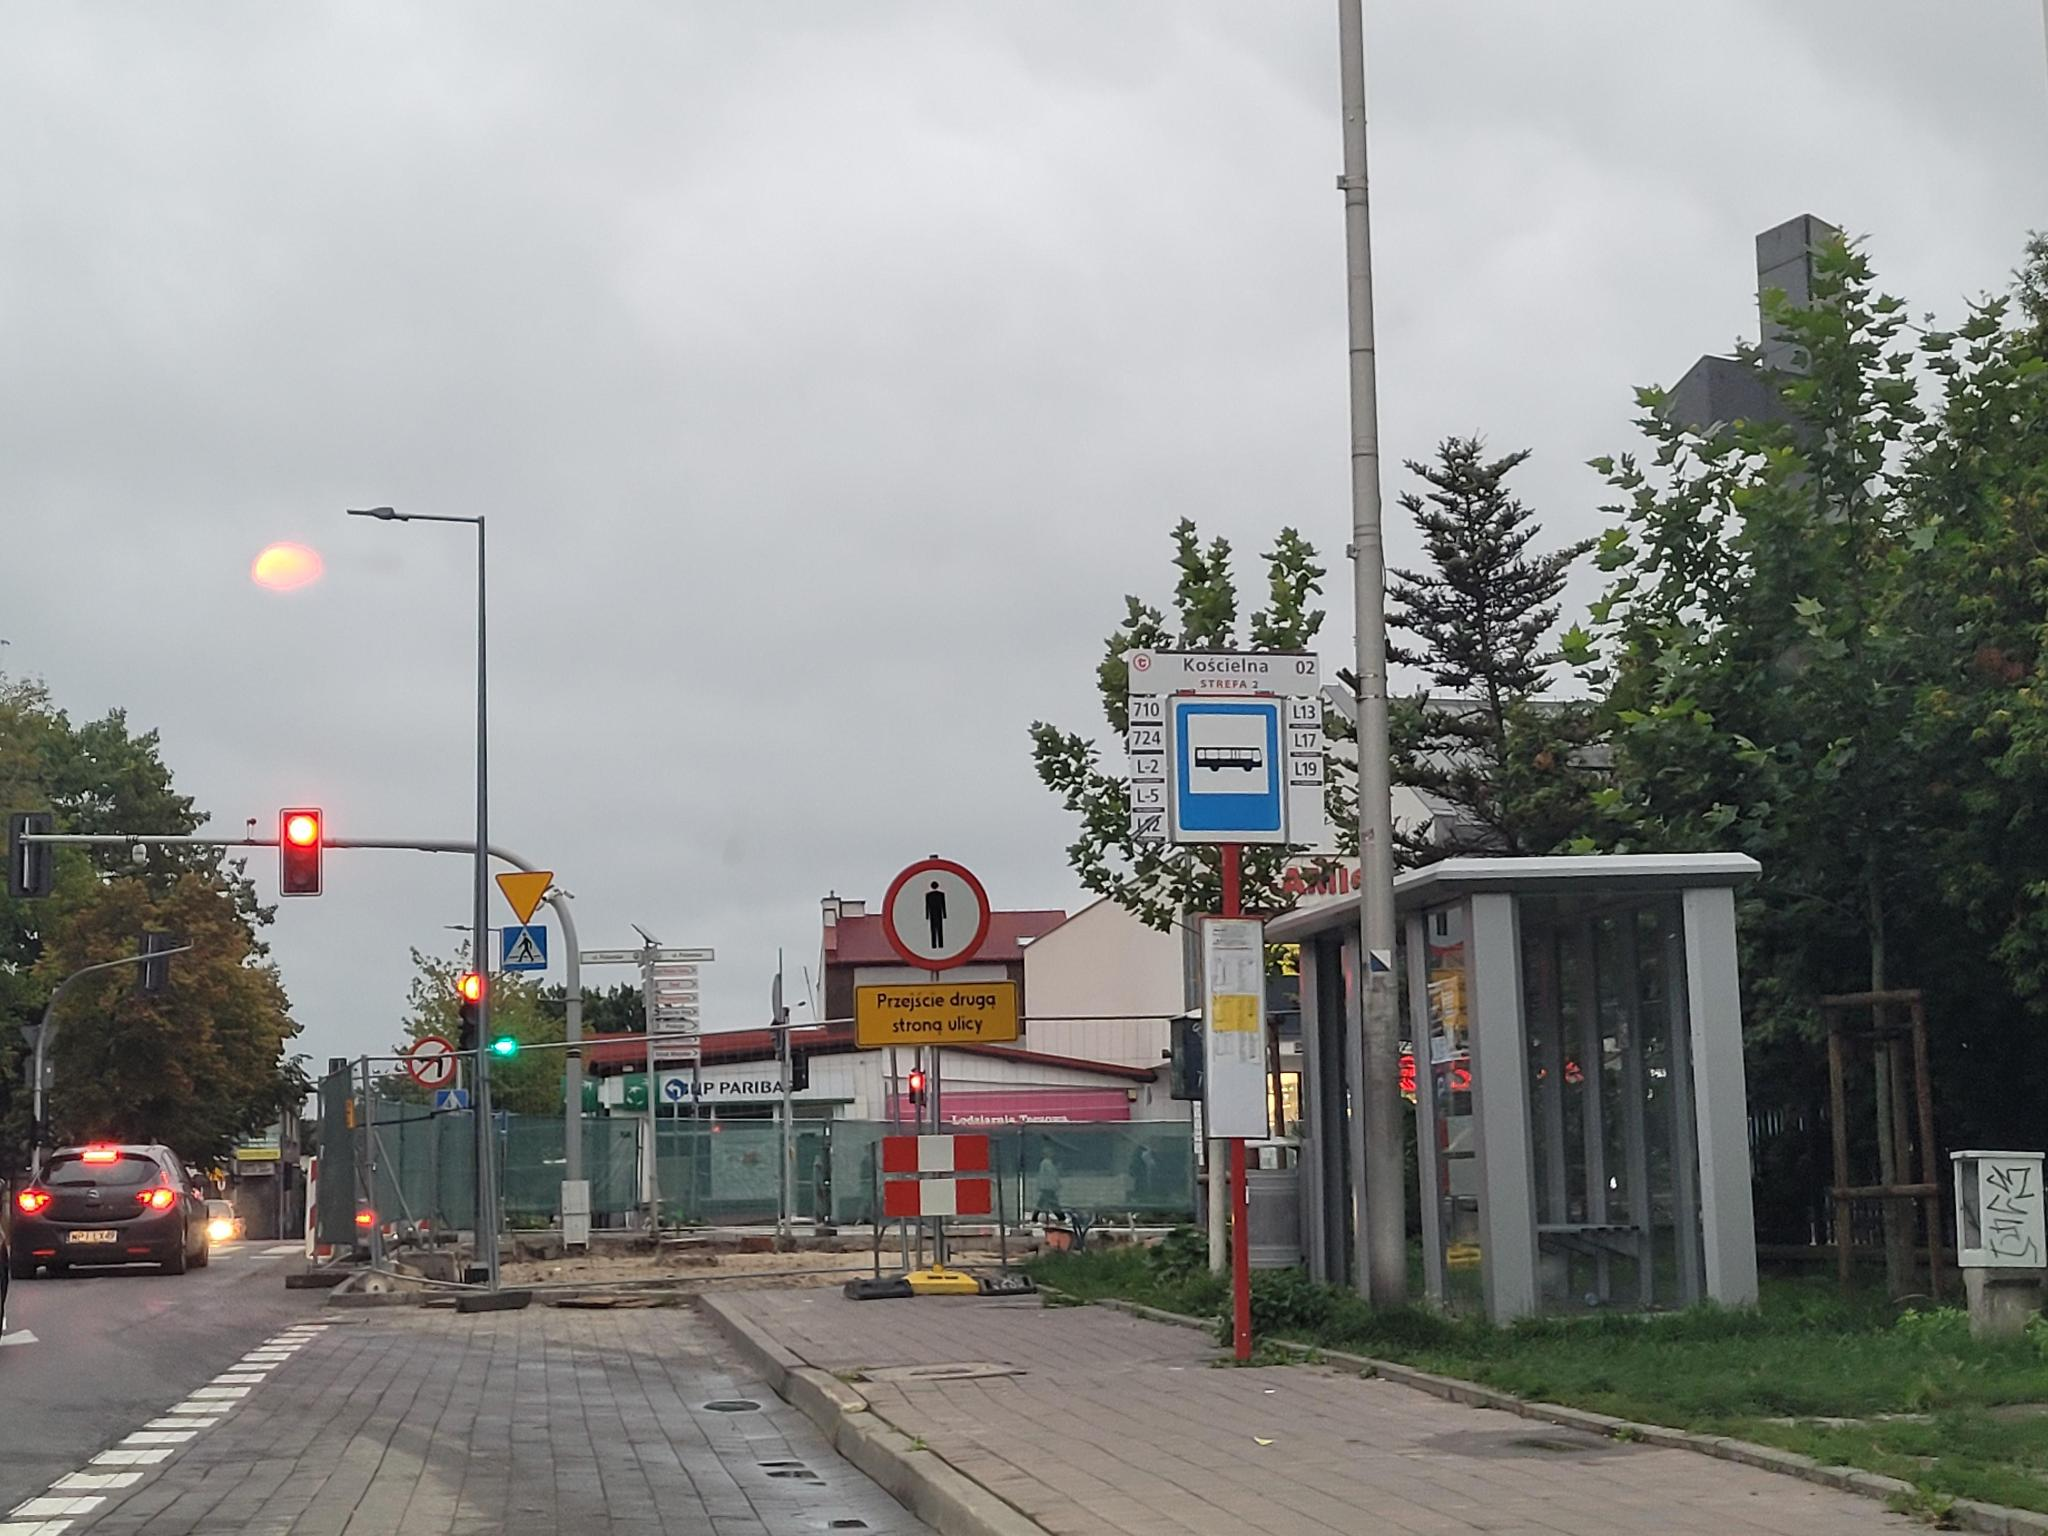information: (498, 925, 552, 973), (439, 1091, 471, 1112)
other: (853, 979, 1021, 1046)
prohibitory: (880, 857, 993, 975), (410, 1036, 456, 1089)
warning: (493, 870, 556, 928)
